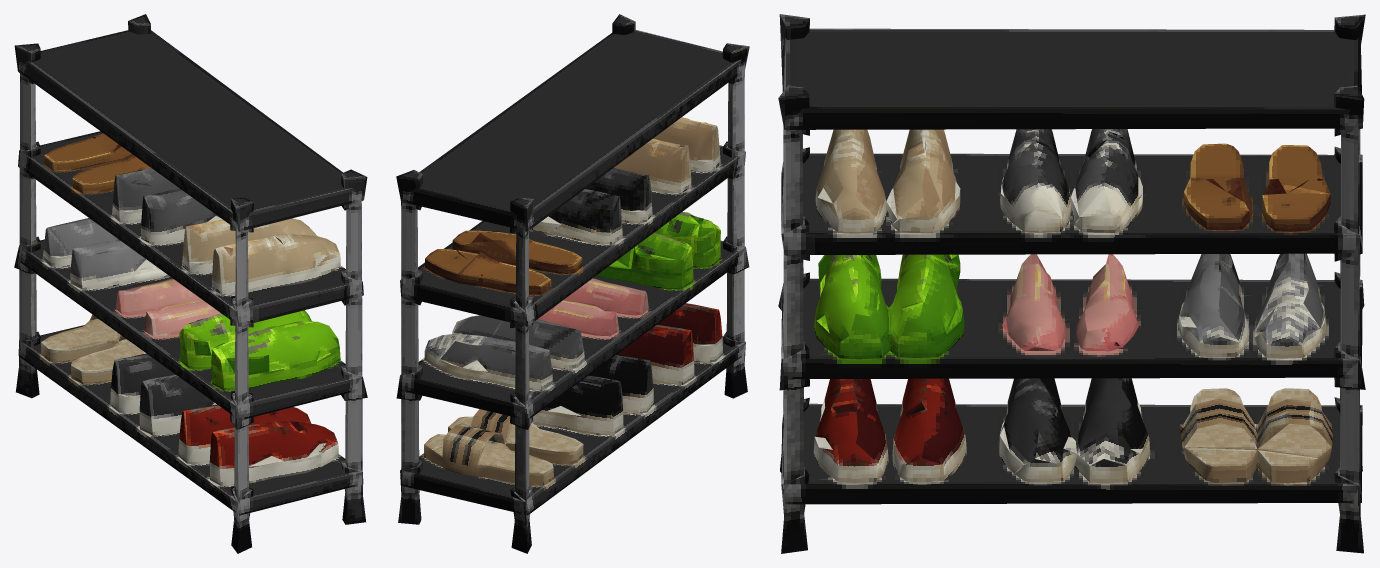
Rendered from shoe_rack.glb.
3 views of the same model, side by side, from view 1: azimuth 30°, elevation 25°; view 2: azimuth 150°, elevation 25°; view 3: azimuth 270°, elevation 25° (orthographic). The views are drawn at different scales.
Parts seen in each view (by area): view 1: mesh; view 2: mesh; view 3: mesh.
Boxes of the visible parts, x1,y1,x2,y2 form: mesh: (14, 14, 367, 553); mesh: (396, 14, 749, 553); mesh: (778, 14, 1365, 553).
Size of the model in its own units: 0.3588 by 0.9 by 1.05.
Materials: 1 (1 with a texture image).
